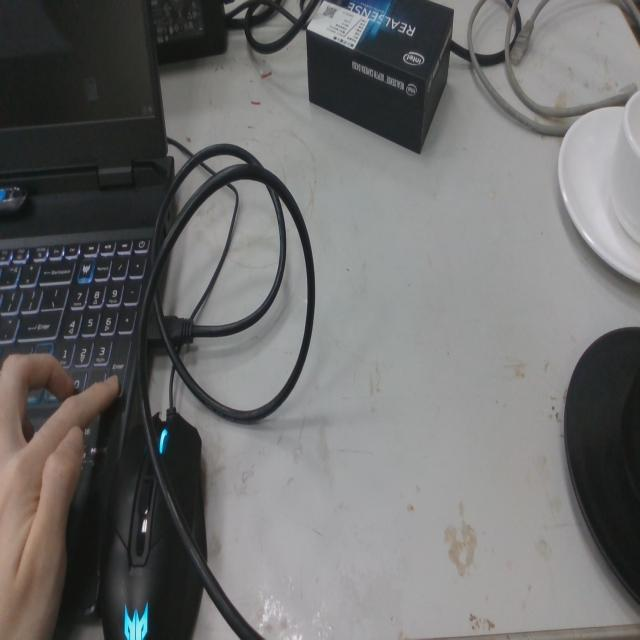black: (560, 319, 640, 610)
white: (554, 82, 640, 291)
